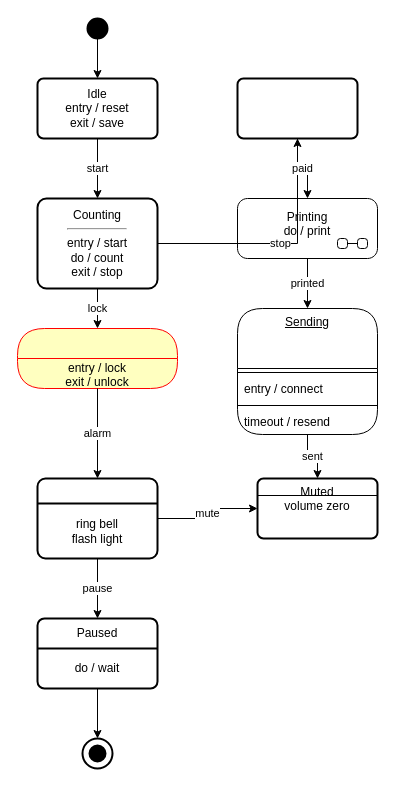
Image size: 396x786. Some labels were removed from this diagram. Here are the shapes that lost their labels. From the top down, the box of each, then its label:
(236, 77, 358, 139): Waiting for payment
(16, 328, 178, 388): Locked
(36, 477, 158, 559): Ringing
